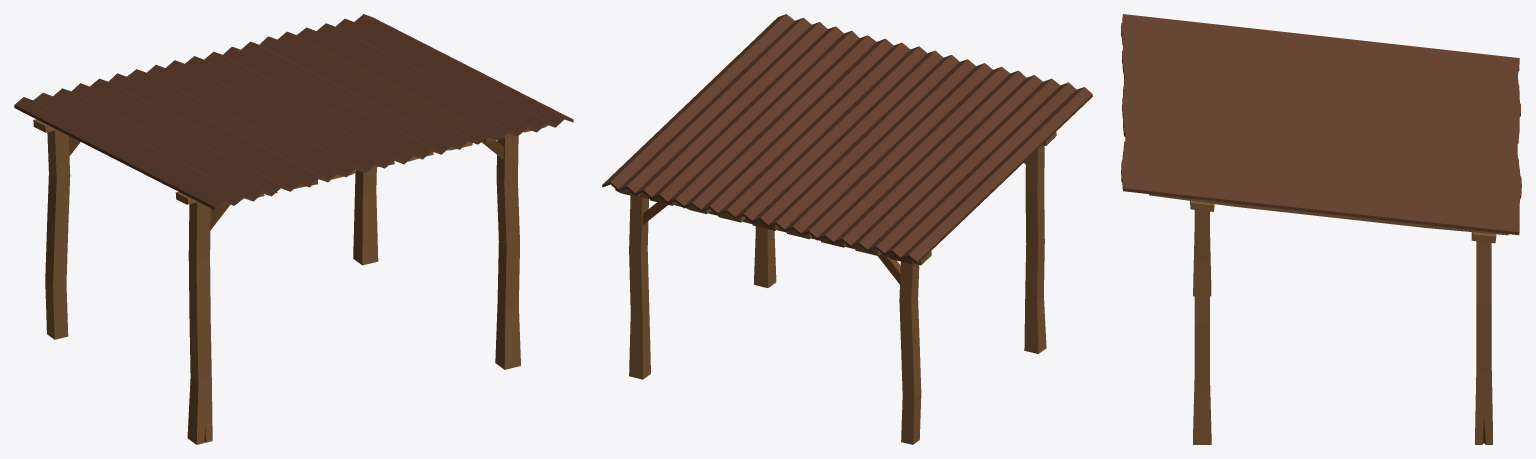
Rendered from Roof_01.fbx.
3 views of the same model, side by side, from view 1: azimuth 30°, elevation 25°; view 2: azimuth 150°, elevation 25°; view 3: azimuth 270°, elevation 25° (orthographic). The views are drawn at different scales.
Parts seen in each view (by area): view 1: Roof_01; view 2: Roof_01; view 3: Roof_01.
Boxes of the visible parts, x1,y1,x2,y2 form: Roof_01: [14, 14, 573, 444]; Roof_01: [602, 14, 1092, 444]; Roof_01: [1121, 14, 1521, 444].
Bounding box in the file's own units: 372 × 271 × 364.
